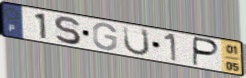1: (163, 33, 178, 63), (33, 13, 49, 40)
G: (92, 22, 119, 52)
P: (191, 36, 221, 68)
S: (52, 15, 83, 46)
U: (122, 24, 151, 56)
